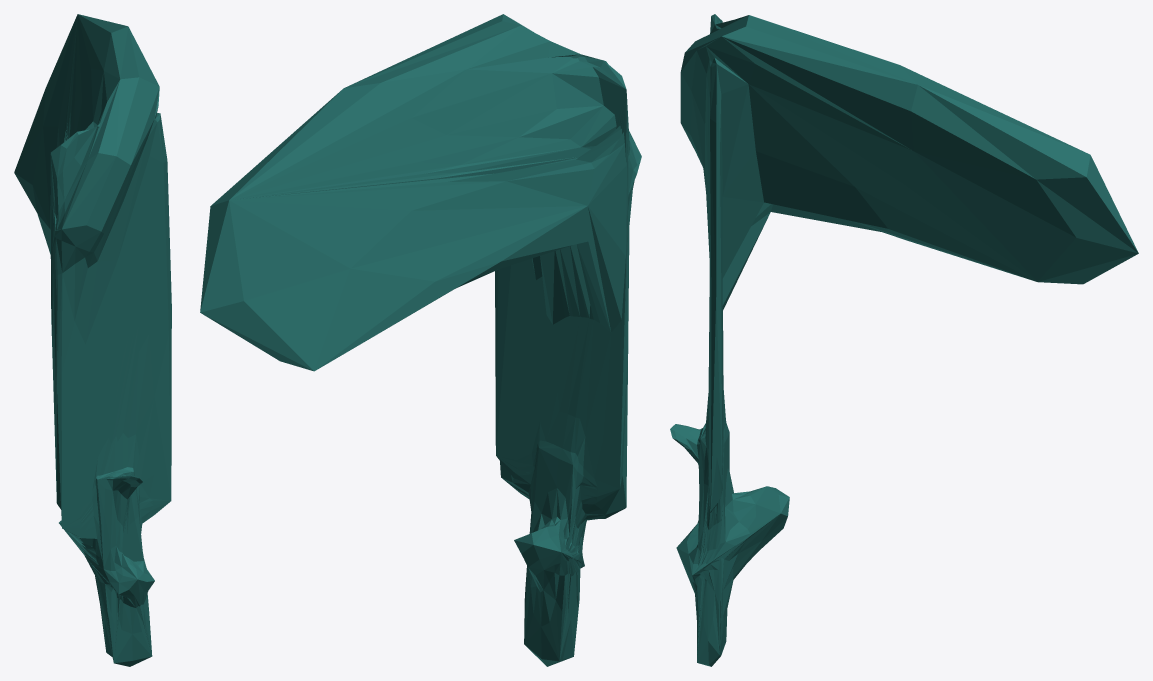
3 renders of one model, left to right at view 1: azimuth 30°, elevation 25°; view 2: azimuth 150°, elevation 25°; view 3: azimuth 270°, elevation 25°, orthographic. The views are drawn at different scales.
Parts seen in each view (by area): view 1: 108_Cube.453; view 2: 108_Cube.453; view 3: 108_Cube.453.
Boxes of the visible parts, left/top/right/bottom form: 108_Cube.453: left=14, top=14, right=171, bottom=666; 108_Cube.453: left=200, top=14, right=641, bottom=666; 108_Cube.453: left=670, top=14, right=1138, bottom=666.
Size of the model in its own units: 6.5 by 17.05 by 11.05.
